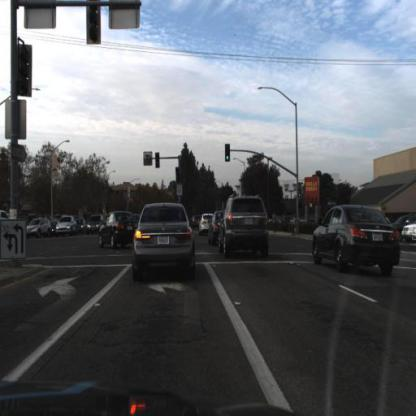car: (307, 206, 403, 288), (134, 202, 195, 284), (221, 194, 273, 262), (92, 213, 134, 249), (207, 208, 222, 248), (196, 213, 216, 236), (28, 219, 50, 236), (190, 208, 202, 234), (57, 215, 76, 231), (123, 216, 135, 233), (76, 217, 88, 233)
pedestrian: (272, 210, 280, 236), (290, 212, 298, 235)
trafficLight-Green: (224, 144, 232, 163), (153, 154, 161, 172), (173, 168, 181, 181), (300, 191, 305, 204)
